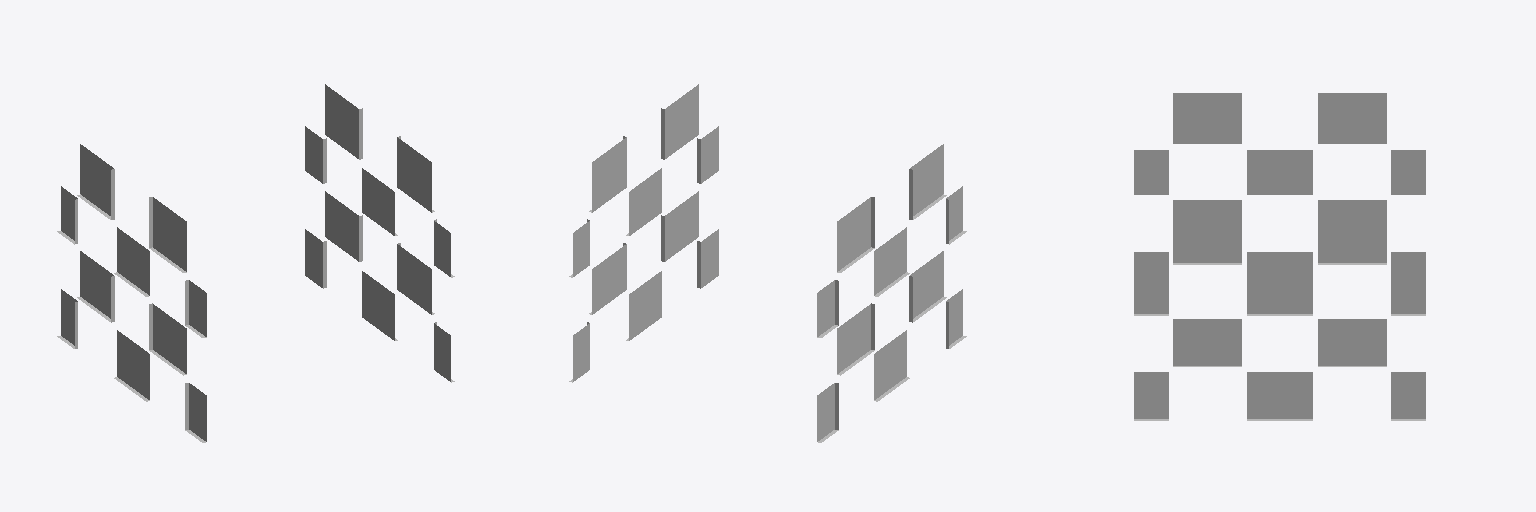
The model's file is hostel_lvl6_underwindow.obj.
The picture shows the model from 3 angles: view 1: azimuth 30°, elevation 25°; view 2: azimuth 150°, elevation 25°; view 3: azimuth 270°, elevation 25°; orthographic projection.
Parts seen in each view (by area): view 1: Under_windows_Cube.002; view 2: Under_windows_Cube.002; view 3: Under_windows_Cube.002.
Part boxes in pixels (x1,y1,x2,y2): Under_windows_Cube.002: (57, 84, 454, 442); Under_windows_Cube.002: (569, 84, 966, 442); Under_windows_Cube.002: (1134, 93, 1425, 420).
Size of the model in its own units: 6.5 by 5.08 by 6.52.